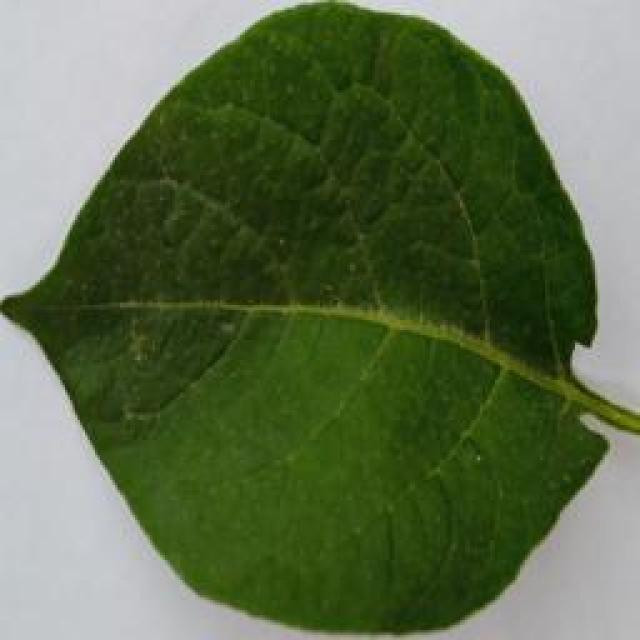Potato_Healthy: (3, 14, 624, 637)
